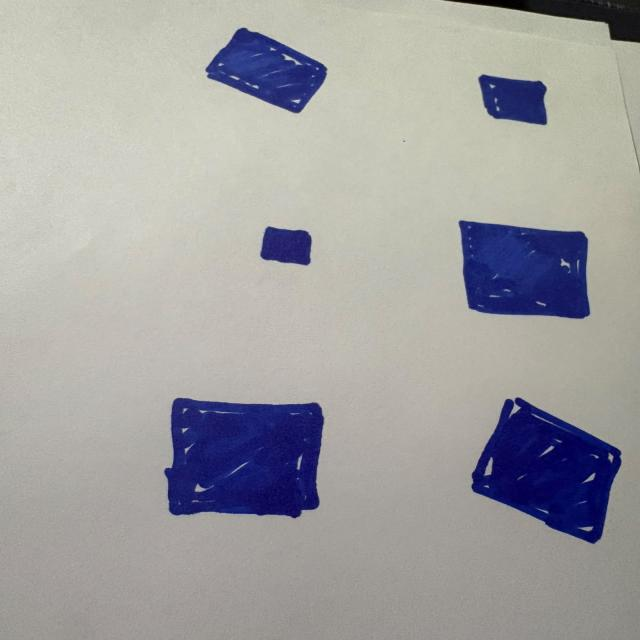Square: (463, 393, 630, 550), (158, 394, 340, 526), (453, 214, 603, 324), (203, 22, 341, 125), (472, 71, 570, 133), (254, 223, 320, 268)
